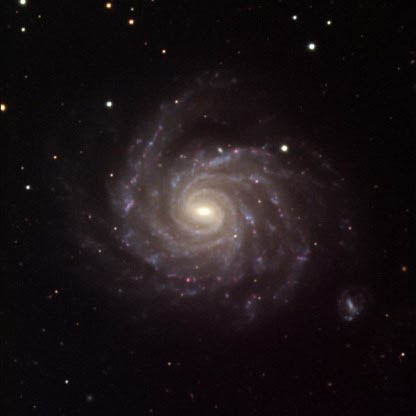NGC 1232: (55, 72, 380, 341)
